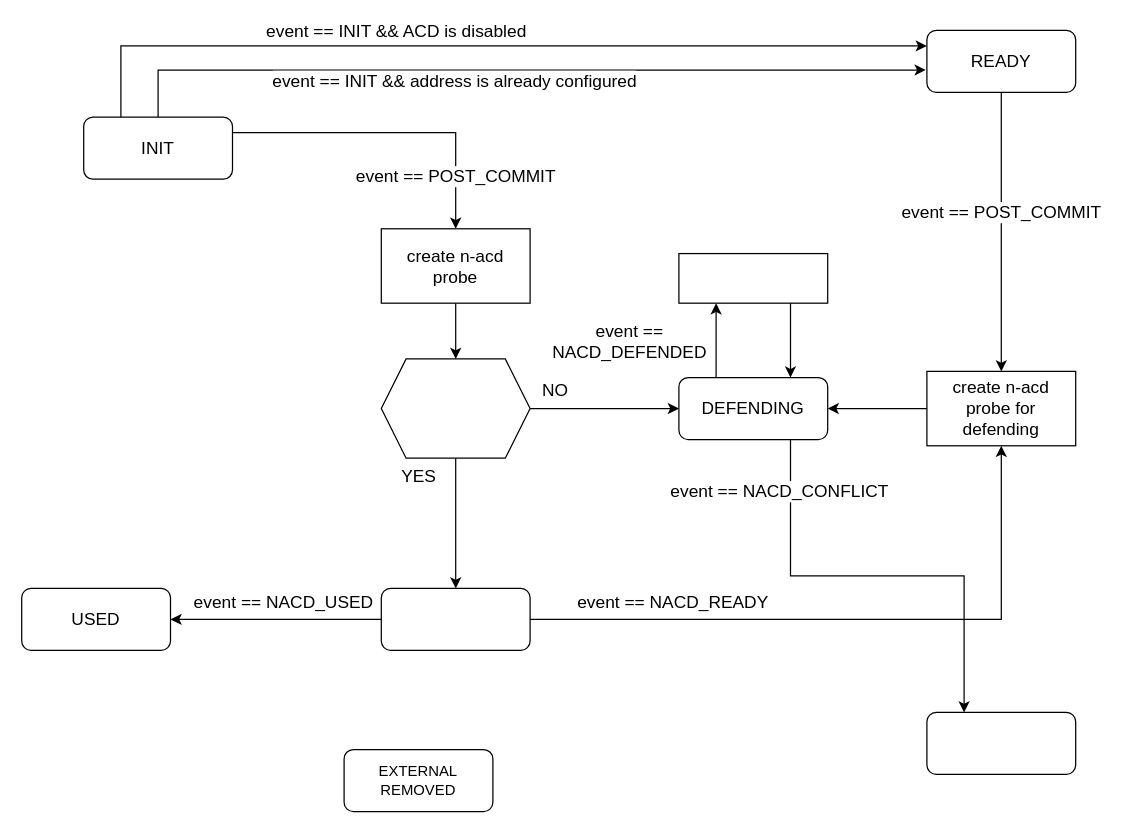
Image size: 1122x833. Some labels were removed from this diagram. The box of each missing label's shape, as (x1, y1, x2, y2) in pixels:
ACD supported?: (380, 358, 530, 458)
CONFLICT: (926, 711, 1076, 774)
log message: (678, 252, 828, 303)
PROBING: (380, 587, 530, 650)
